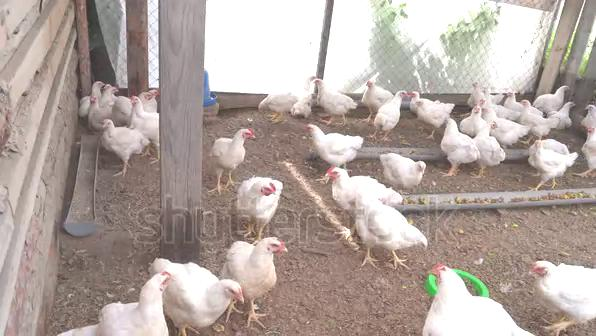Pollos: (95, 270, 173, 333), (179, 261, 245, 330), (429, 263, 492, 332), (353, 202, 426, 253), (527, 259, 590, 308), (230, 234, 285, 276), (236, 175, 285, 221), (304, 122, 361, 160), (323, 161, 374, 199), (213, 126, 257, 168), (442, 120, 480, 162), (409, 90, 457, 122), (311, 77, 353, 113), (101, 119, 144, 154), (531, 141, 571, 178), (380, 154, 425, 186), (484, 109, 522, 142), (477, 124, 507, 165), (520, 101, 556, 133), (257, 90, 298, 116), (380, 88, 406, 126), (128, 97, 158, 128), (580, 125, 596, 178), (537, 84, 569, 107), (555, 99, 578, 128), (87, 96, 112, 121), (363, 79, 383, 104), (464, 104, 483, 129), (468, 79, 486, 101)
